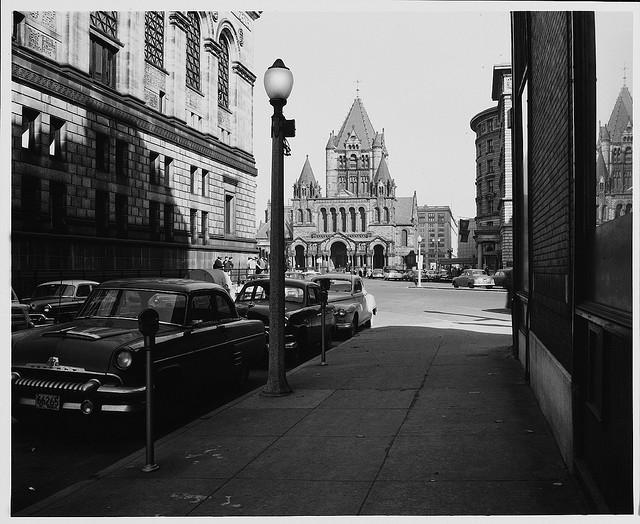car: (8, 279, 270, 424), (233, 278, 337, 365), (312, 274, 378, 339), (20, 280, 101, 322), (452, 268, 496, 288), (11, 285, 30, 328), (493, 265, 514, 294), (408, 270, 429, 280), (383, 270, 402, 280), (398, 269, 412, 281), (426, 270, 442, 280), (370, 269, 384, 279)
